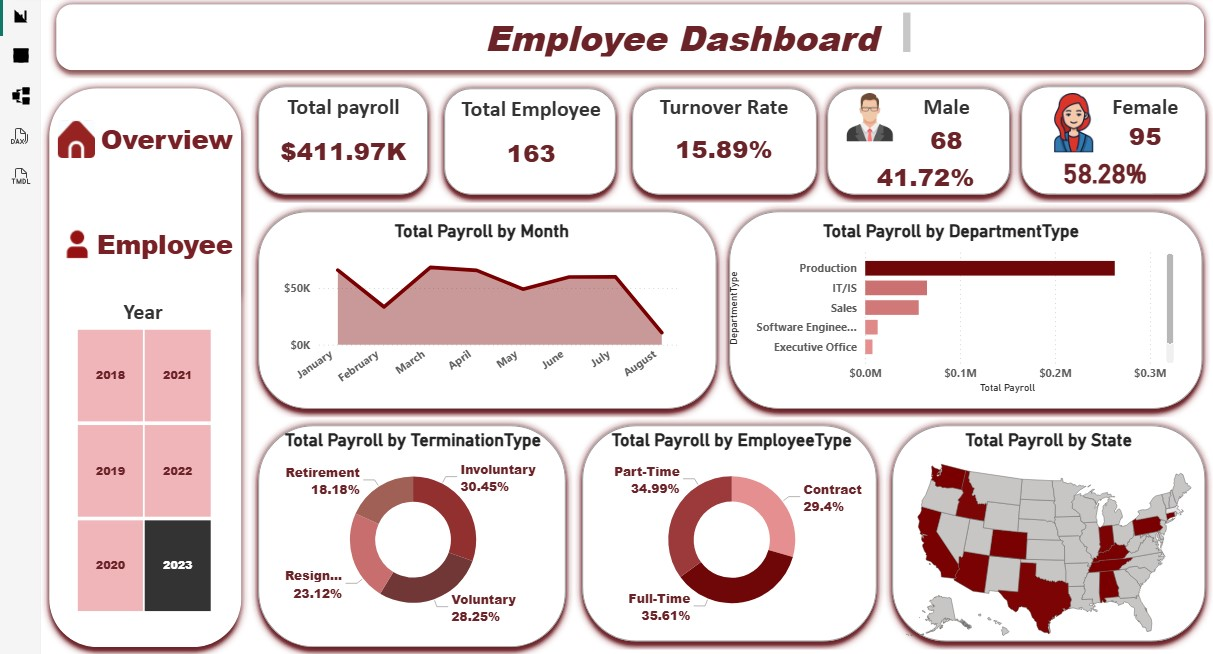

Layout of this report page (visuals, bound fields, positions):
{"tool":"powerbi","page":{"name":"Overview ","canvas":[1280,720],"ordinal":0},"visuals":[{"type":"shape","box":[0,91.4,227.6,627.8],"z":0},{"type":"shape","box":[7.9,0,1270.5,90],"z":1000},{"type":"shape","box":[849.3,91.4,217.4,134.1],"z":2000},{"type":"shape","box":[1060.6,89.4,219.4,136.1],"z":3000},{"type":"textbox","box":[451.2,12.9,501.7,58.2],"z":4000},{"type":"card","title":"Male","fields":{"Values":["Dax.Male"]},"box":[936.6,105.7,103.6,75.2],"z":5000},{"type":"card","title":"Female","fields":{"Values":["Dax.Female"]},"box":[1152,105.7,105.7,65],"z":6000},{"type":"image","box":[871.6,105.7,65,52.8],"z":7000},{"type":"card","fields":{"Values":["Dax.Female %"]},"box":[1107.3,170.7,105.7,44.7],"z":8000},{"type":"card","fields":{"Values":["Dax.male %"]},"box":[904.1,180.8,121.9,34.5],"z":9000},{"type":"slicer","title":"Year","fields":{"Values":["employee_data.StartDate.Variation.Date Hierarchy.Year"]},"box":[14.2,325.2,198.7,348.4],"z":10000},{"type":"actionButton","box":[14.2,132.1,199.1,48.8],"z":11000},{"type":"actionButton","box":[14.2,245.8,199.1,50.8],"z":12000},{"type":"shape","box":[430.7,91.4,205.2,134.1],"z":13000},{"type":"shape","box":[635.9,91.4,219.4,134.1],"z":14000},{"type":"shape","box":[227.6,89.4,203.2,136.1],"z":15000},{"type":"card","title":"Total payroll","fields":{"Values":["Dax.Total Payroll"]},"box":[243.1,105.7,173.6,99.4],"z":16000},{"type":"card","title":"Turnover Rate","fields":{"Values":["Dax.Turnover Rate"]},"box":[658.3,105.7,174.7,93.5],"z":17000},{"type":"card","title":"Total Employee","fields":{"Values":["Dax.Total Employees"]},"box":[451,107.7,168.6,99.6],"z":18000},{"type":"shape","box":[227.6,225.5,518.1,233.7],"z":19000},{"type":"shape","box":[741.6,225.5,534.3,233.7],"z":20000},{"type":"stackedAreaChart","fields":{"Category":["employee_data.StartDate.Variation.Date Hierarchy.Month"],"Y":["Dax.Total Payroll"]},"box":[260.1,245.8,442.9,191],"z":21000},{"type":"shape","box":[227.6,459.2,353.5,260.1],"z":22000},{"type":"shape","box":[581.1,459.2,339.3,254],"z":23000},{"type":"shape","box":[920.4,459.2,359.6,254],"z":24000},{"type":"barChart","fields":{"Category":["employee_data.DepartmentType"],"Y":["Dax.Total Payroll"]},"box":[745.7,245.8,495.7,193],"z":25000},{"type":"donutChart","fields":{"Category":["employee_data.TerminationType"],"Y":["Dax.Total Payroll"]},"box":[260.1,473.4,292.6,217.4],"z":26000},{"type":"donutChart","fields":{"Category":["employee_data.EmployeeType"],"Y":["Dax.Total Payroll"]},"box":[603.4,473.4,300.7,217.4],"z":27000},{"type":"shapeMap","fields":{"Category":["employee_data.State"],"Value":["Dax.Total Payroll"]},"box":[920.4,473.4,359.6,239.7],"z":28000},{"type":"image","box":[1093.1,105.7,67,65],"z":28001}]}

Visuals, with their boxes in screenshot pixels (x1, y1, x2, y2):
shape: 41/69/252/652
shape: 48/0/1212/68
shape: 830/69/1032/194
shape: 1026/67/1212/194
textbox: 460/0/926/50
"Male" card: 911/82/1007/152
"Female" card: 1111/82/1209/143
image: 850/82/911/131
card - Dax.Female %: 1069/143/1167/184
card - Dax.male %: 881/152/994/184
"Year" slicer: 54/286/239/610
actionButton: 54/107/239/152
actionButton: 54/212/239/260
shape: 441/69/632/194
shape: 632/69/835/194
shape: 252/67/441/194
"Total payroll" card: 267/82/428/175
"Turnover Rate" card: 652/82/815/169
"Total Employee" card: 460/84/616/177
shape: 252/194/733/411
shape: 730/194/1212/411
stackedAreaChart - employee_data.StartDate.Variation.Date Hierarchy.Month x Dax.Total Payroll: 283/212/694/390
shape: 252/411/581/652
shape: 581/411/896/646
shape: 896/411/1212/646
barChart - employee_data.DepartmentType x Dax.Total Payroll: 733/212/1194/392
donutChart - employee_data.TerminationType x Dax.Total Payroll: 283/424/554/626
donutChart - employee_data.EmployeeType x Dax.Total Payroll: 601/424/881/626
shapeMap - employee_data.State x Dax.Total Payroll: 896/424/1212/646
image: 1056/82/1118/143
